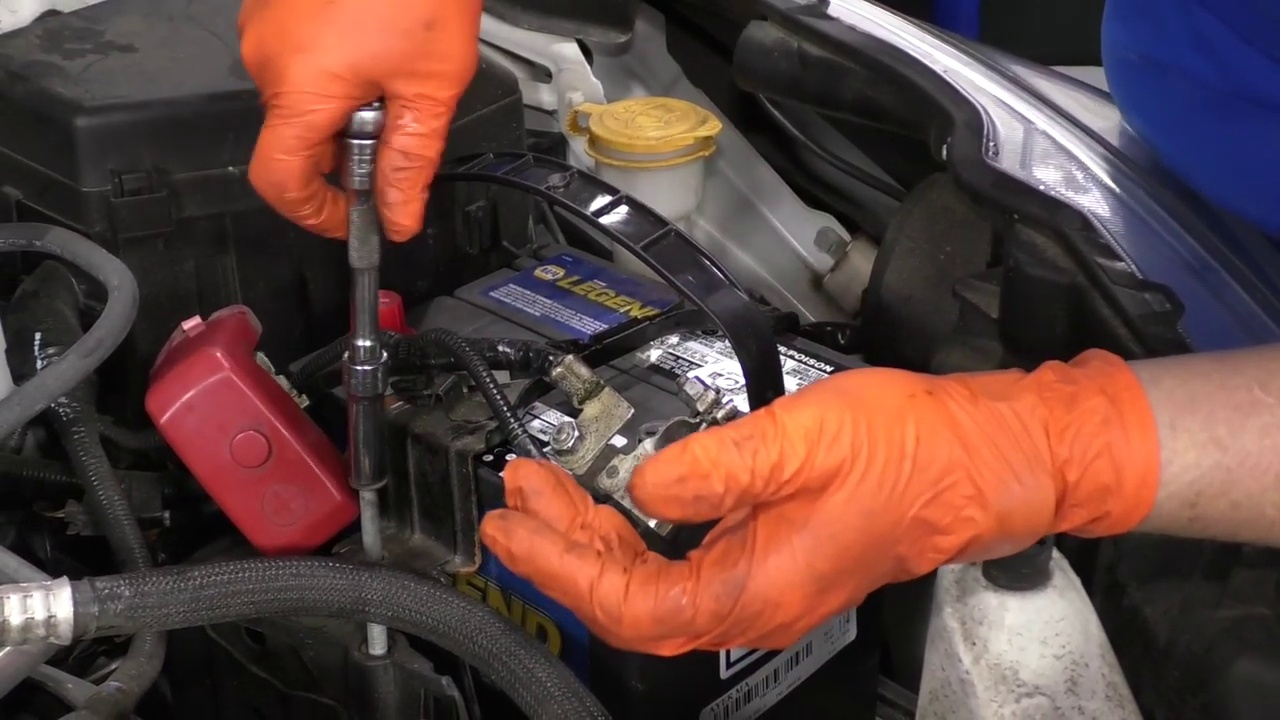battery: (303, 240, 930, 546)
